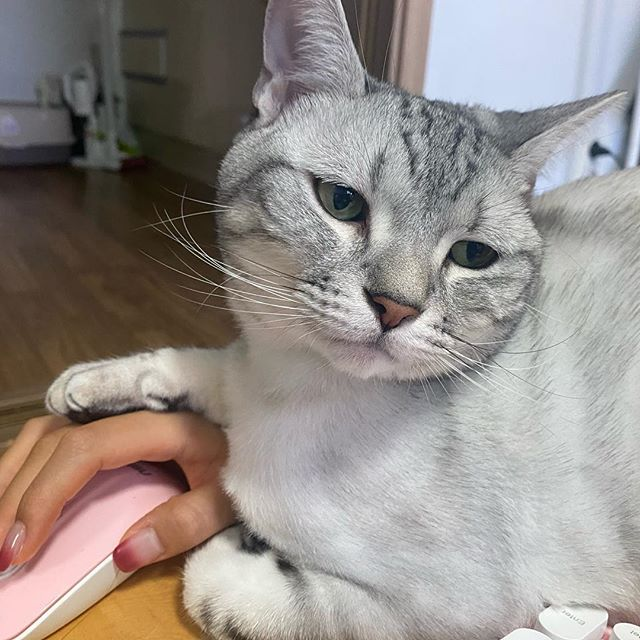cat: (210, 1, 628, 380)
